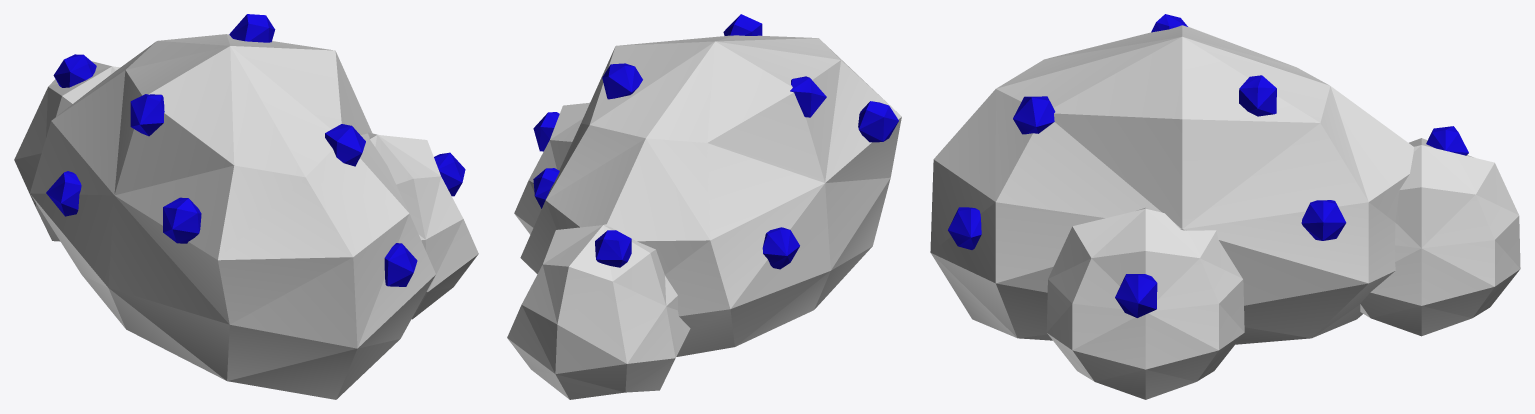
Rendered from BushWithFruit.fbx.
3 views of the same model, side by side, from view 1: azimuth 30°, elevation 25°; view 2: azimuth 150°, elevation 25°; view 3: azimuth 270°, elevation 25° (orthographic). The views are drawn at different scales.
Visible parts, largest first — view 1: BushWithFruit; view 2: BushWithFruit; view 3: BushWithFruit.
Part boxes in pixels (box(x1,y1,x2,y2)): BushWithFruit: box(14, 14, 478, 399); BushWithFruit: box(507, 14, 901, 399); BushWithFruit: box(930, 14, 1520, 399).
Size of the model in its own units: 121 by 96.21 by 178.
